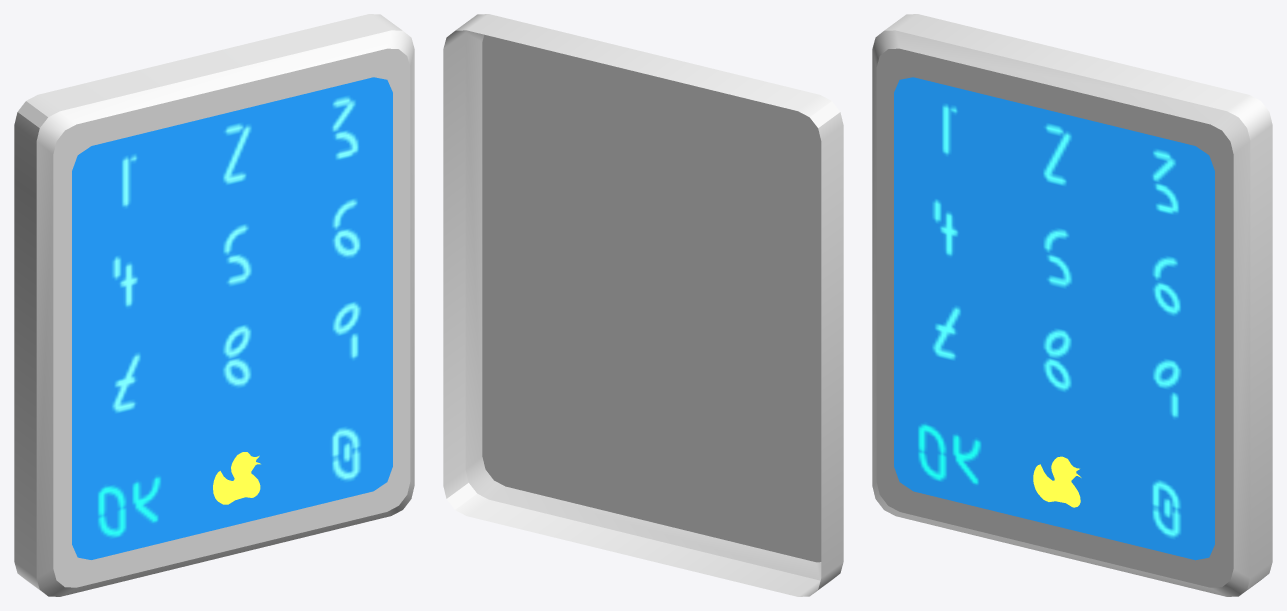
File: Misc_PinPad_A.glb
3 views of the same model, side by side, from view 1: azimuth 30°, elevation 25°; view 2: azimuth 150°, elevation 25°; view 3: azimuth 330°, elevation 25° (orthographic).
Visible parts, largest first — view 1: Misc_PinPad_A.001; view 2: Misc_PinPad_A.001; view 3: Misc_PinPad_A.001.
Part boxes in pixels (x1=…): Misc_PinPad_A.001: x1=14, y1=14, x2=414, y2=596; Misc_PinPad_A.001: x1=443, y1=14, x2=843, y2=596; Misc_PinPad_A.001: x1=872, y1=14, x2=1272, y2=596.
Size of the model in its own units: 0.1377 by 0.1691 by 0.0189.
4 materials, 1 textured.
